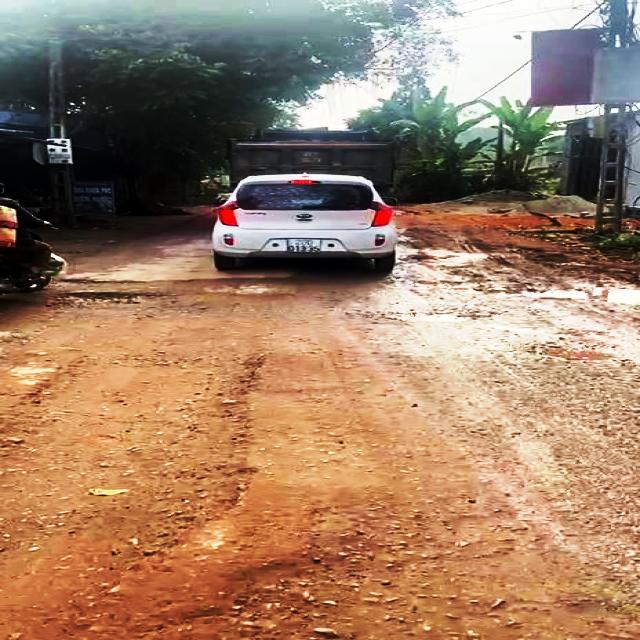pothole: (0, 353, 281, 585), (64, 288, 184, 307), (379, 307, 473, 327)
